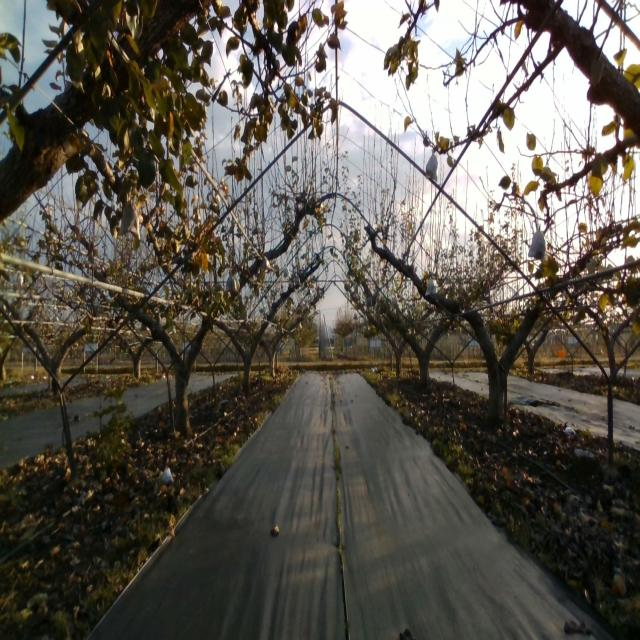pearbags: (118, 198, 140, 240), (528, 225, 546, 262), (426, 149, 438, 183), (224, 272, 241, 295), (425, 274, 441, 296), (260, 254, 274, 276)
